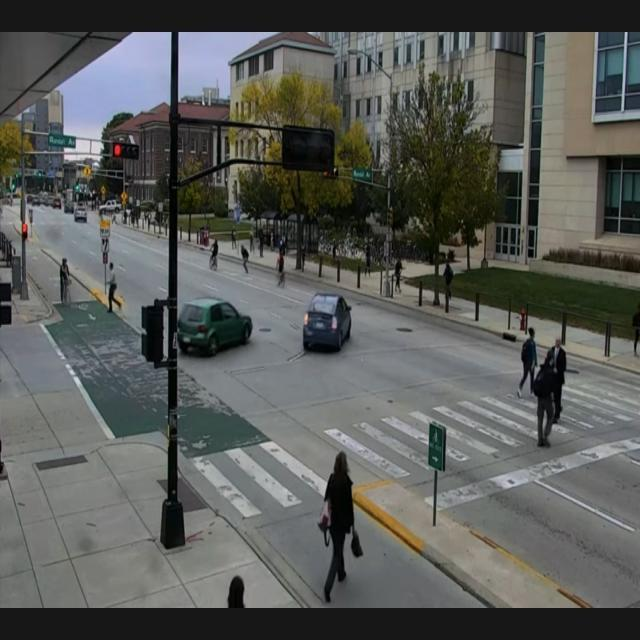Walking: (44, 239, 80, 324), (427, 250, 463, 328), (387, 247, 414, 308), (203, 222, 231, 280), (622, 284, 640, 370)
crossing: (283, 414, 376, 608), (517, 350, 565, 454), (498, 314, 542, 397), (546, 330, 578, 412), (100, 251, 130, 327), (238, 218, 262, 289)
